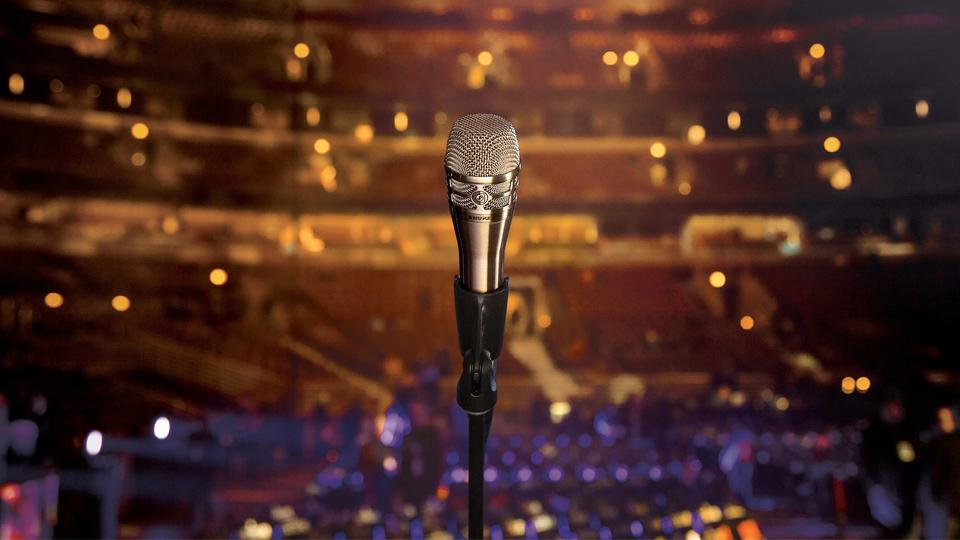microphone: (431, 105, 528, 540)
